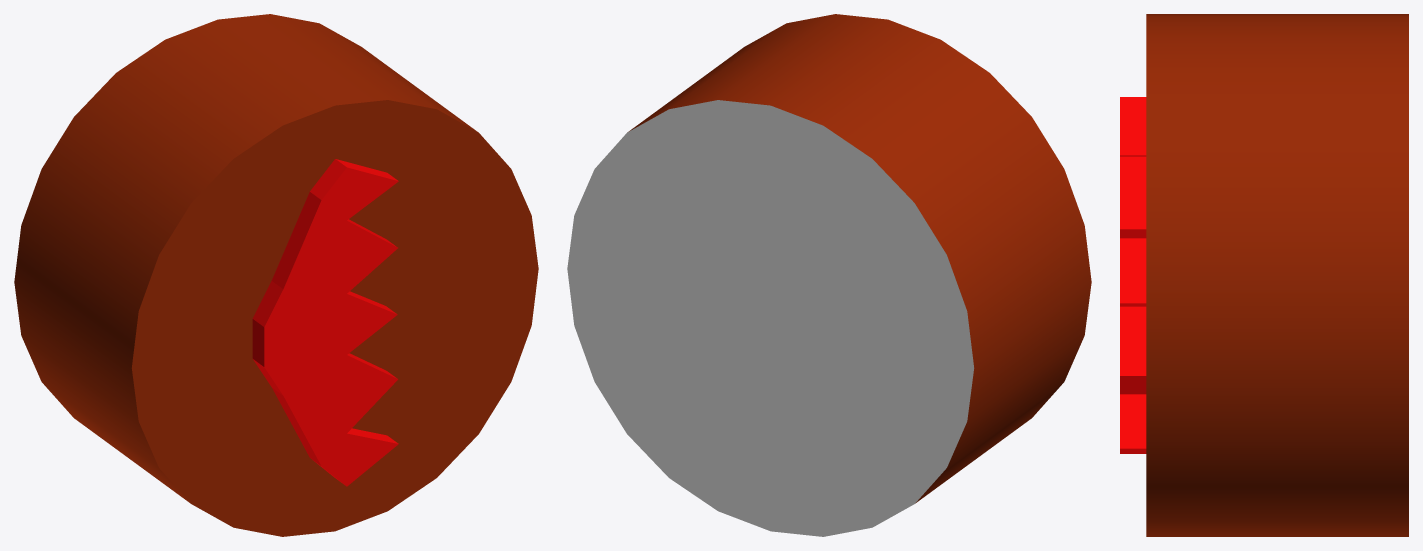
Rendered from cloud.fbx.
3 renders of one model, left to right at view 1: azimuth 30°, elevation 25°; view 2: azimuth 150°, elevation 25°; view 3: azimuth 270°, elevation 25°, orthographic. The views are drawn at different scales.
Visible parts, largest first — view 1: Model; view 2: Model; view 3: Model.
Boxes of the visible parts, x1=… form: Model: x1=14, y1=14, x2=538, y2=536; Model: x1=567, y1=14, x2=1091, y2=536; Model: x1=1120, y1=14, x2=1408, y2=536.
Size of the model in its own units: 4 by 4 by 2.2.
